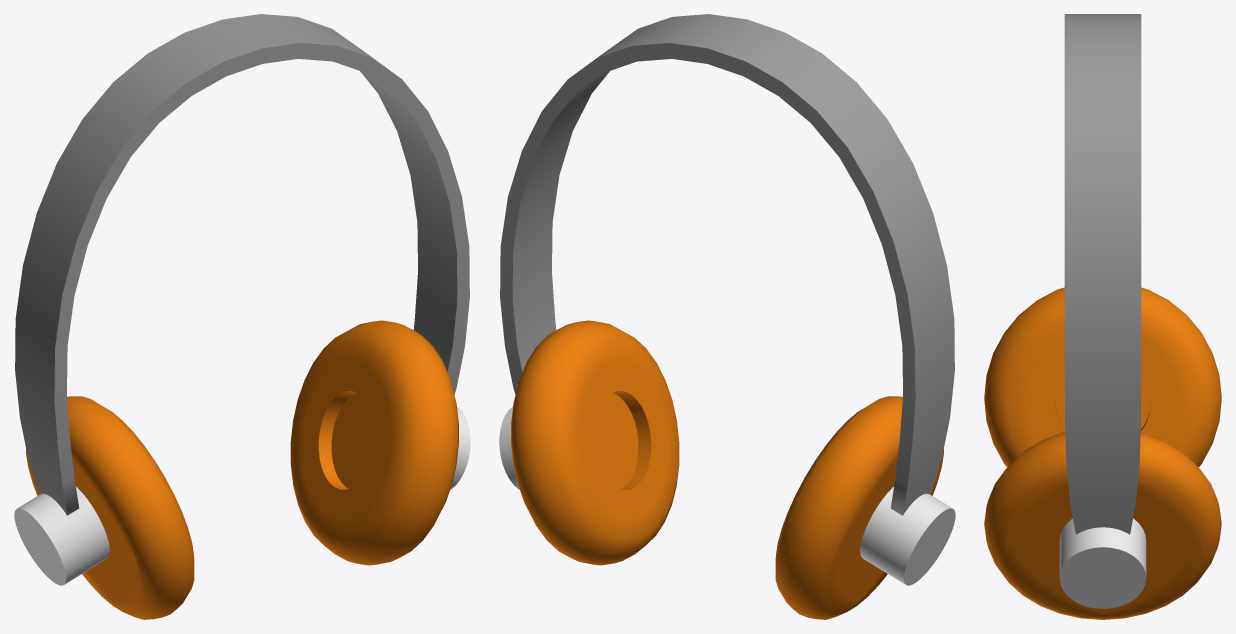
Rendered from Headphones I.fbx.
3 renders of one model, left to right at view 1: azimuth 30°, elevation 25°; view 2: azimuth 150°, elevation 25°; view 3: azimuth 270°, elevation 25°, orthographic. The views are drawn at different scales.
Parts seen in each view (by area): view 1: Plane.033; view 2: Plane.033; view 3: Plane.033.
Boxes of the visible parts, <box> form: Plane.033: <box>14,14,470,619</box>; Plane.033: <box>499,14,955,619</box>; Plane.033: <box>984,14,1221,619</box>.
Bounding box in the file's own units: 260 × 316 × 128.
